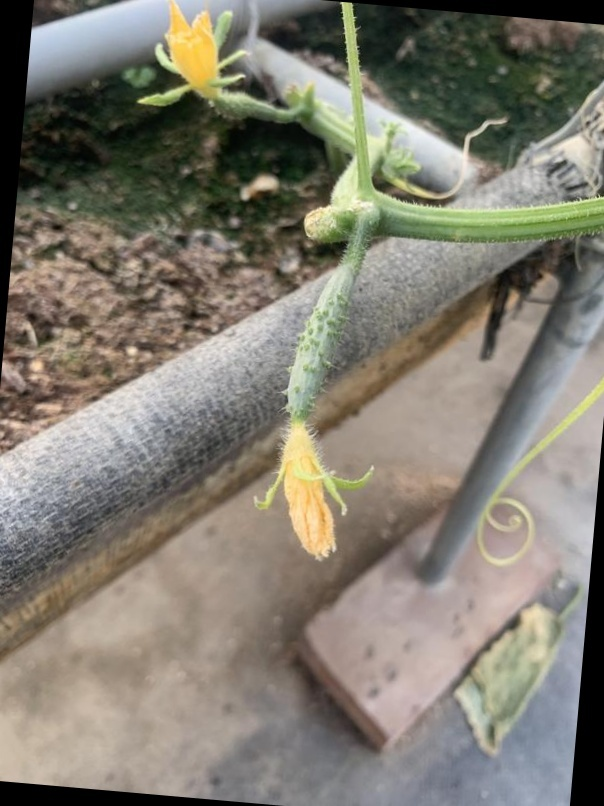bear: (240, 241, 380, 567), (141, 0, 284, 131)
